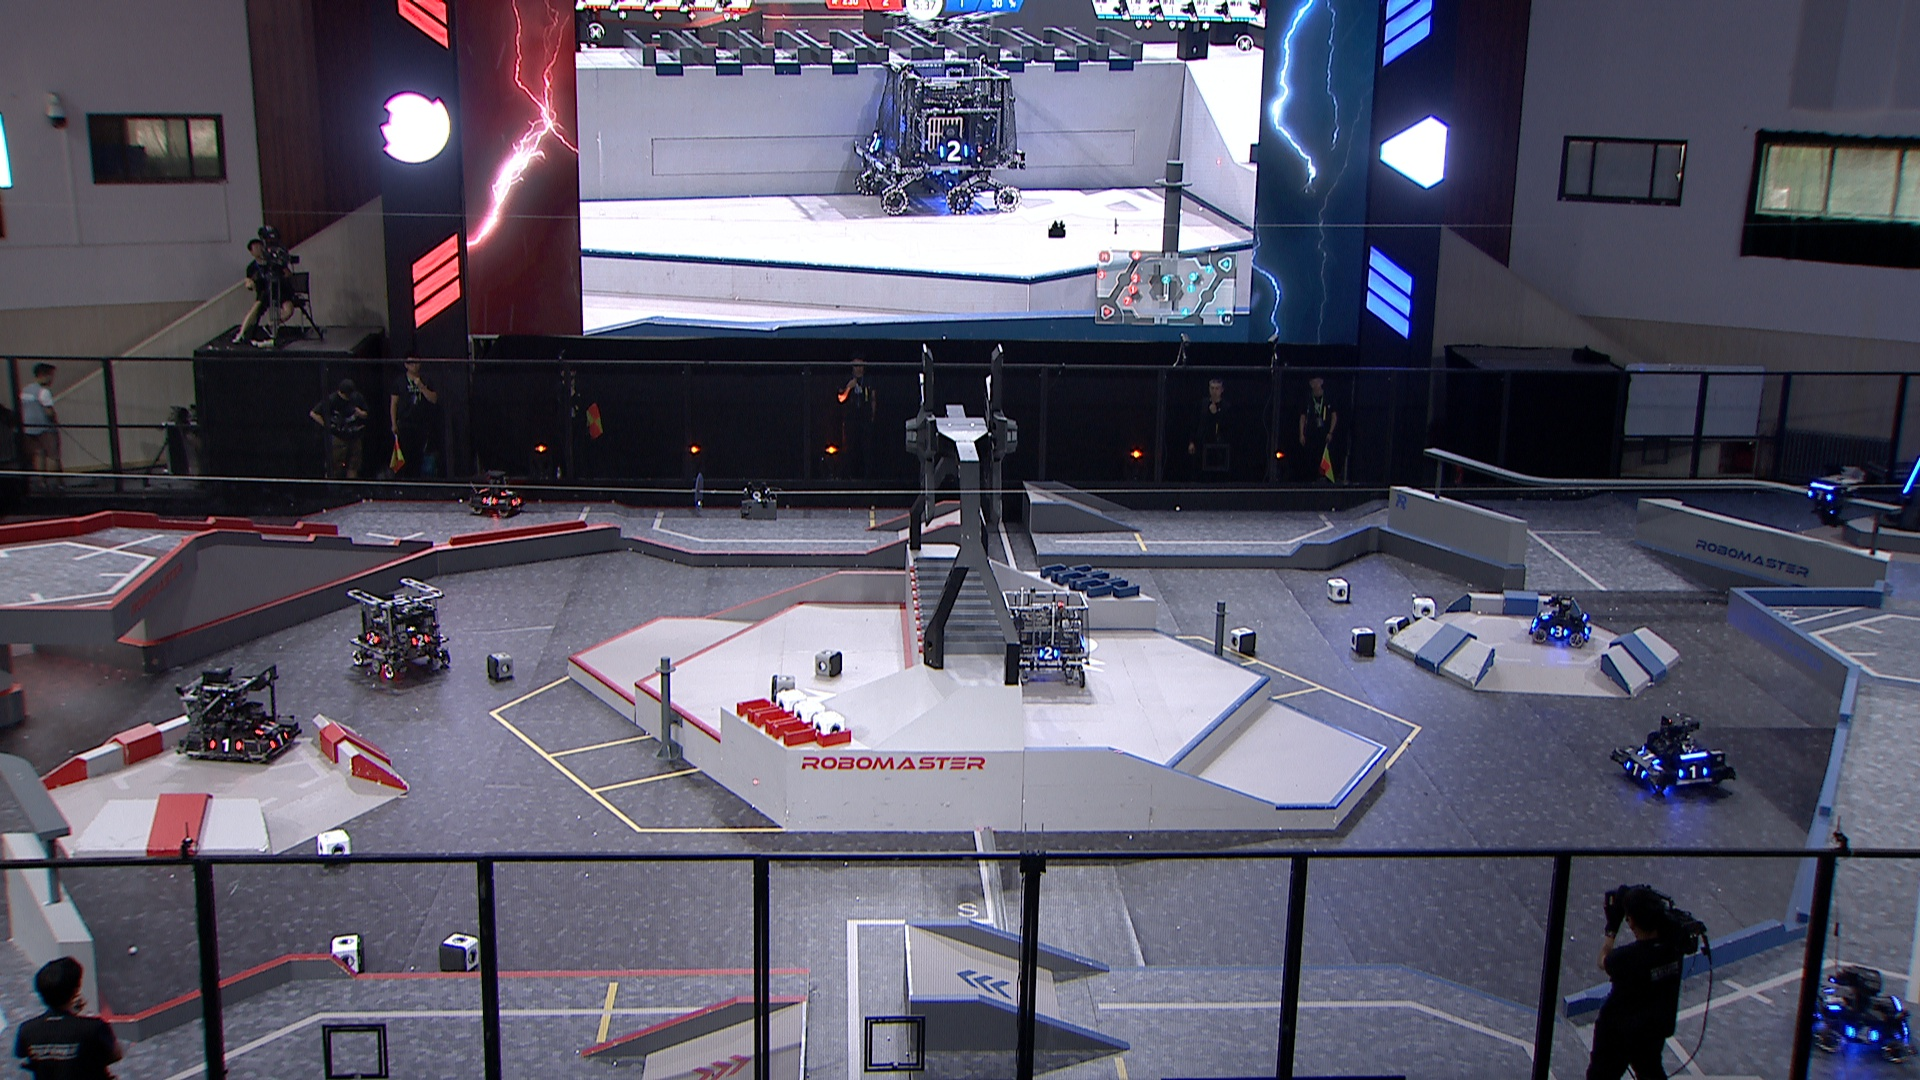armor: (1845, 1025, 1882, 1046), (1822, 986, 1846, 1015), (208, 737, 244, 756), (1903, 458, 1920, 495), (1677, 764, 1712, 781), (1636, 746, 1662, 767), (1625, 760, 1650, 781), (253, 719, 280, 737), (268, 732, 291, 752), (1807, 489, 1836, 504), (410, 632, 430, 647), (1038, 646, 1062, 659), (480, 495, 498, 509), (367, 629, 381, 646), (1549, 626, 1569, 638), (509, 496, 524, 508), (498, 489, 514, 498), (1538, 609, 1553, 618)
base: (1879, 450, 1920, 535)
car: (177, 665, 305, 764), (1808, 963, 1915, 1064), (348, 575, 448, 683), (1611, 713, 1738, 798), (1001, 588, 1091, 688), (1528, 593, 1593, 647), (467, 469, 524, 517)
ignore: (851, 55, 1029, 216)
watcher: (1807, 472, 1859, 529)
